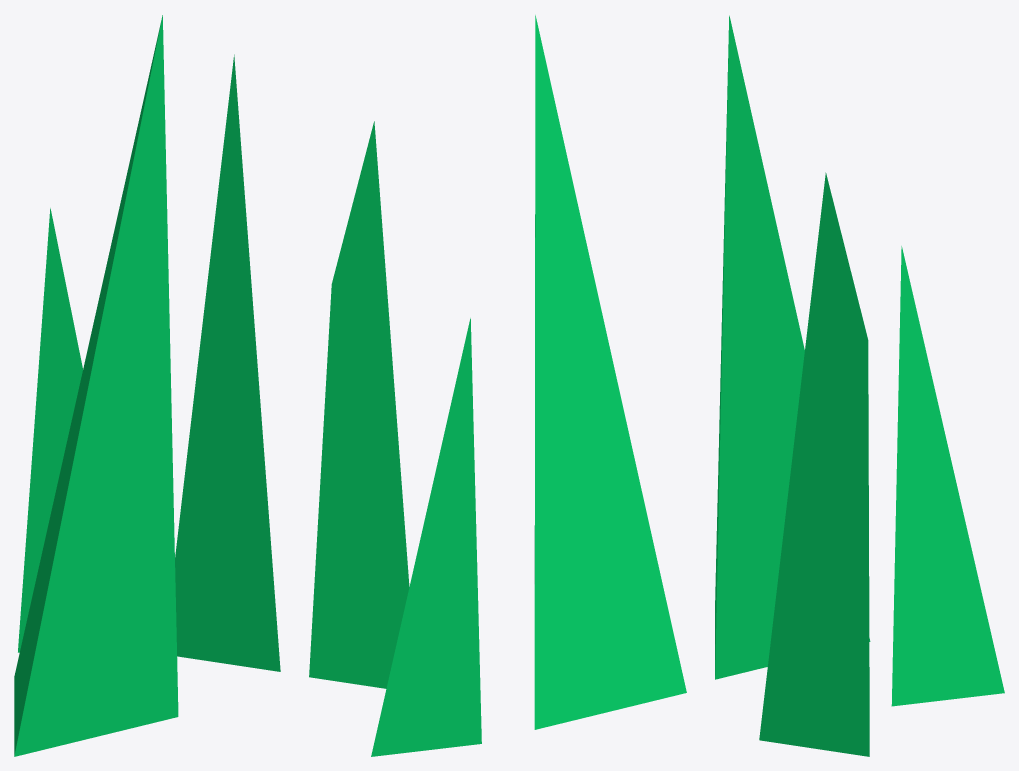
The model's file is Grass.fbx.
3 renders of one model, left to right at view 1: azimuth 30°, elevation 25°; view 2: azimuth 150°, elevation 25°; view 3: azimuth 270°, elevation 25°, orthographic. The views are drawn at different scales.
Parts seen in each view (by area): view 1: Cone; view 2: Cone; view 3: Cone.
Part boxes in pixels (left/top/right/bottom): Cone: left=14, top=15, right=280, bottom=756; Cone: left=309, top=15, right=686, bottom=756; Cone: left=715, top=15, right=1004, bottom=756.
Size of the model in its own units: 77.35 by 159 by 62.98.
